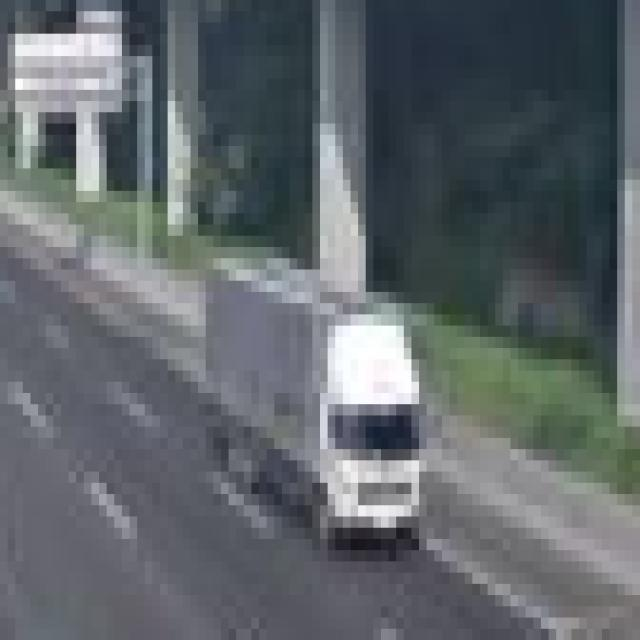truck: (188, 225, 440, 579)
